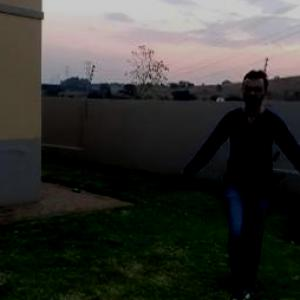land: (169, 46, 299, 299)
